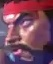ryu: (0, 0, 49, 62)
